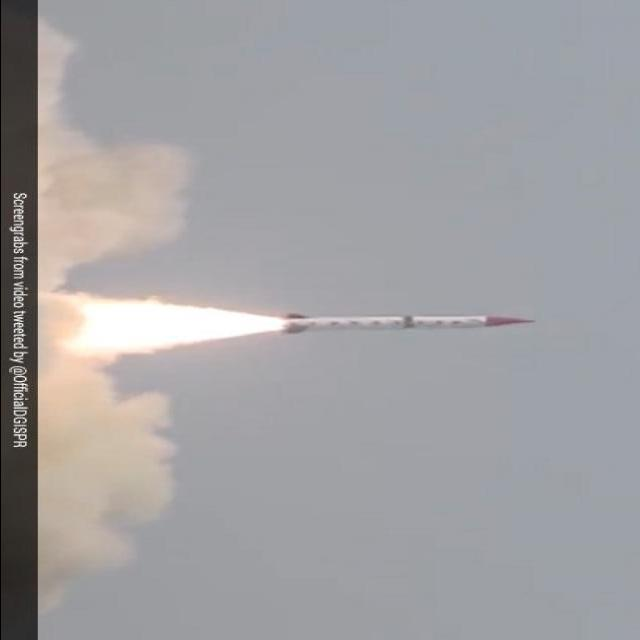missile: (279, 309, 546, 336)
